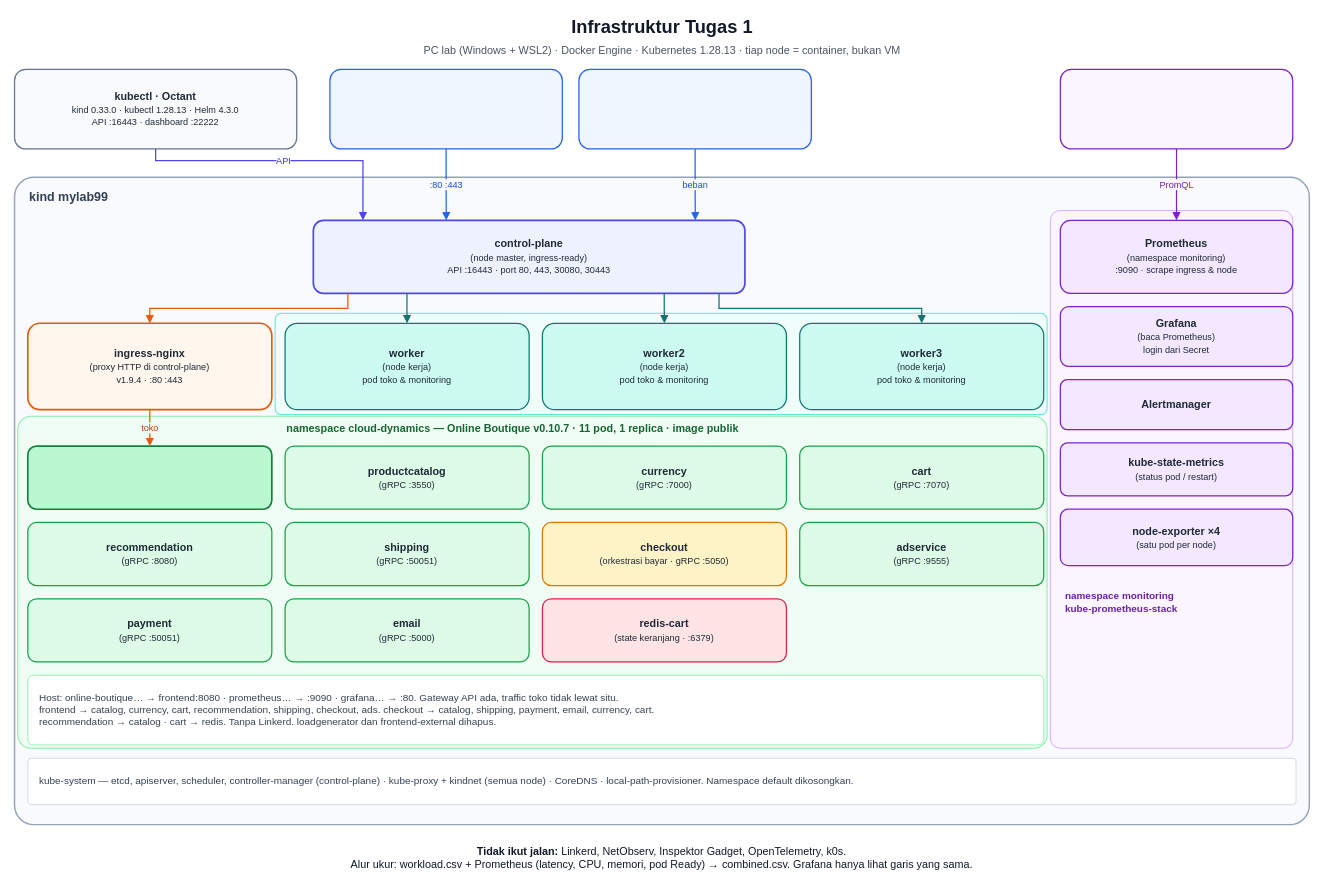
Some shapes in this 1325 by 891 pixel diagram are drawn without their labels. Here are the shapes that lost their labels. From the top down, the centre of each, then its label:
At (446,108): "browser (klien HTTP/HTTPS di host) *.sslip.io · :80 :443".
At (695,108): "load generator (constant ~10 · burst ~400 RPS) tulis workload.csv".
At (1176,108): "pengumpul metrik (script di host) PromQL → combined.csv".
At (149,477): "frontend (pintu HTTP toko) :8080".
